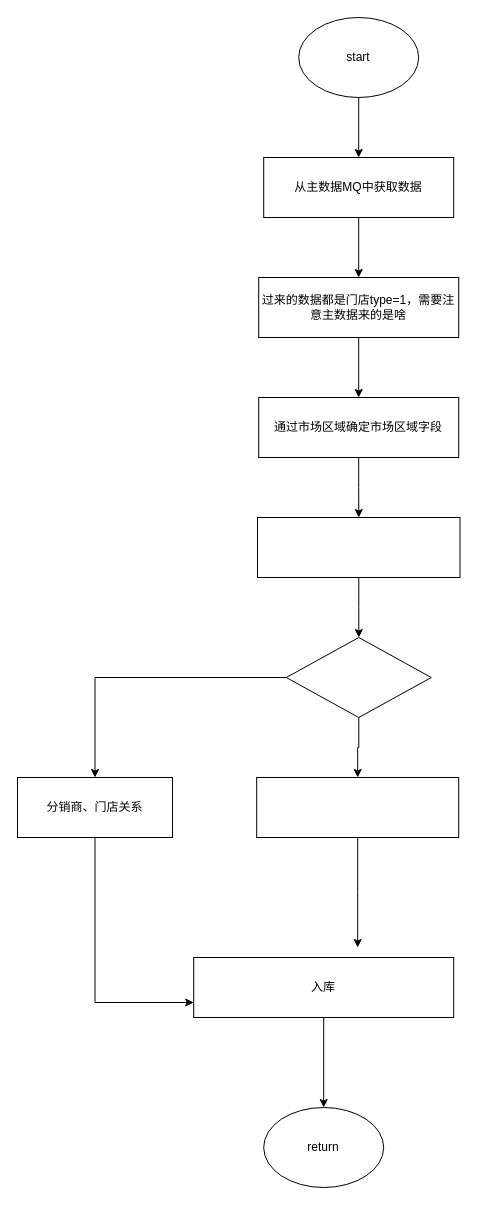
The diagram is 478 pixels wide and 1205 high, and some of its shapes have lost their labels. The box of each missing label's shape, as (x1, y1, x2, y2) in pixels:
判断是否是xmg的数据: (285, 636, 431, 718)
找到excel中供货商编码就是parnt_id: (256, 776, 459, 838)
编码就是excel中 门店ID: (256, 516, 460, 578)
